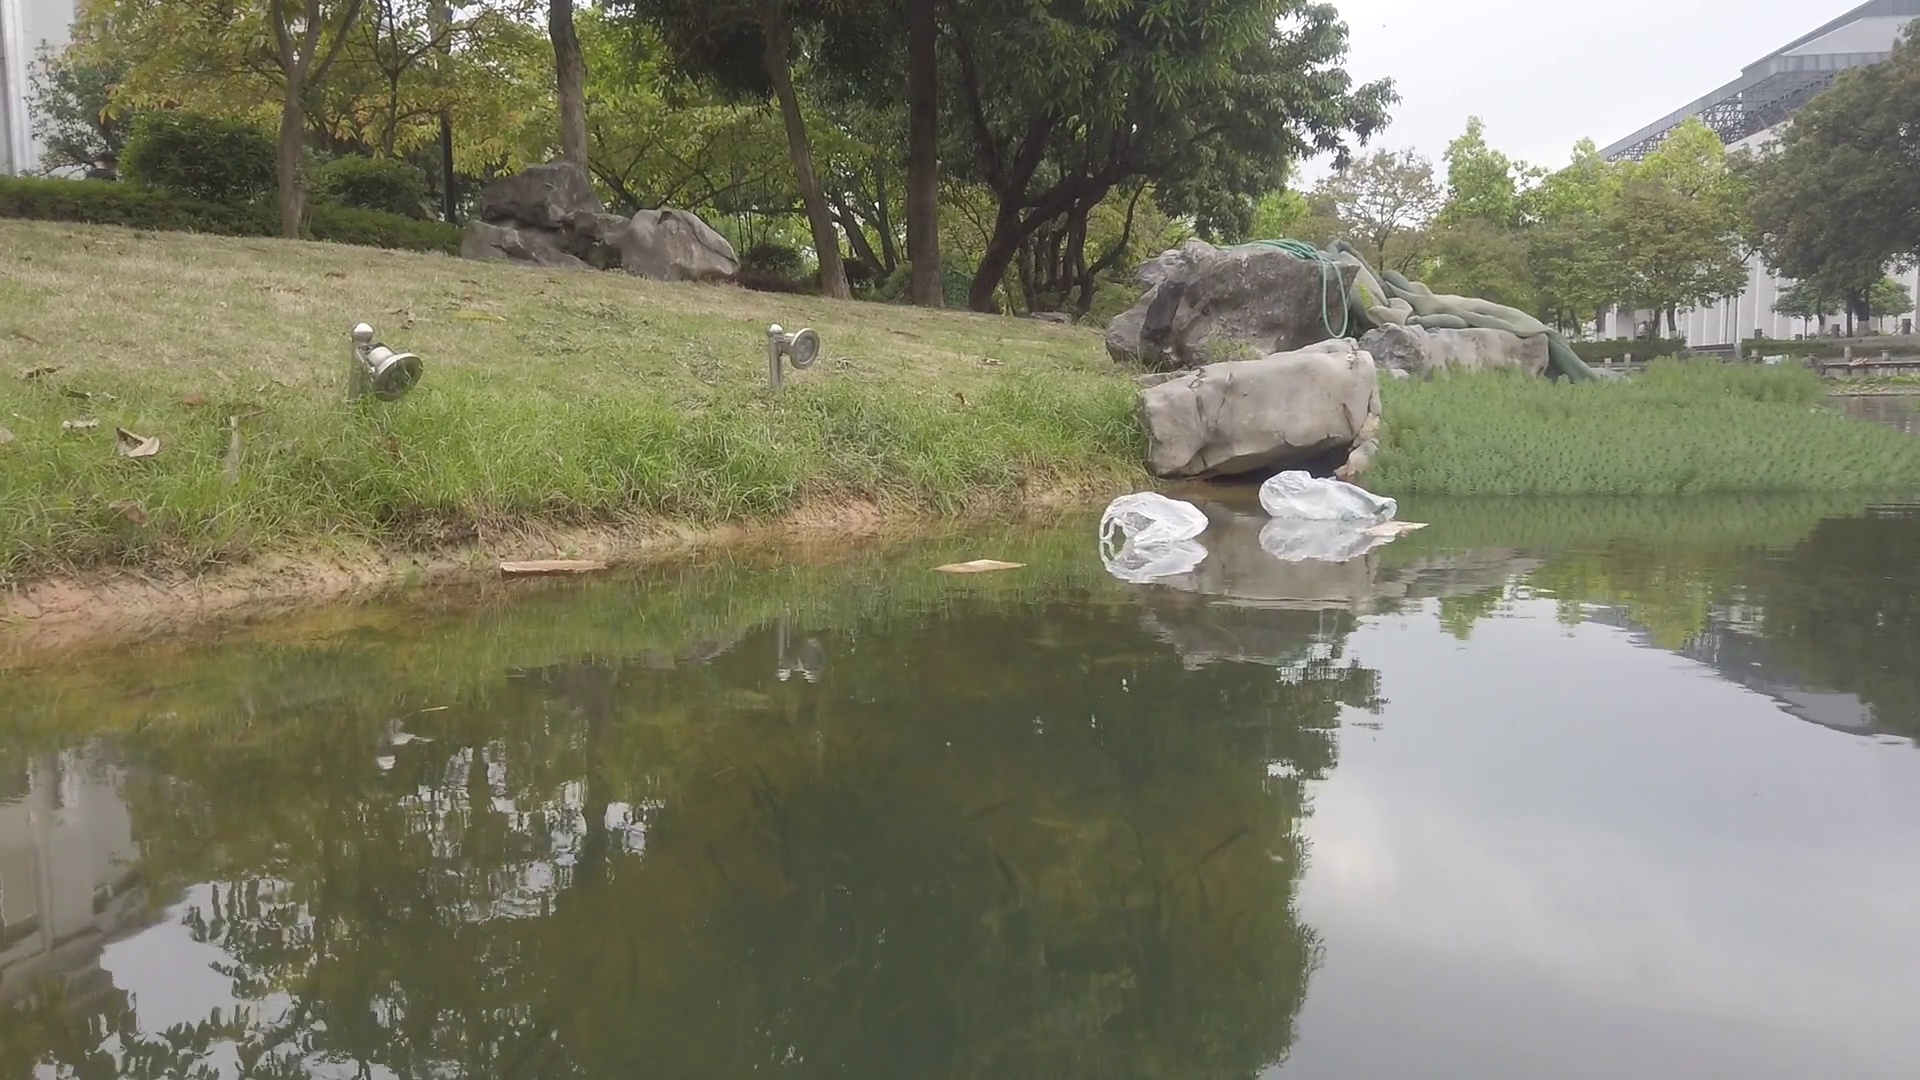paper: (927, 555, 1036, 576), (496, 558, 611, 578), (1360, 521, 1432, 541)
plastic: (1258, 465, 1399, 522), (1101, 495, 1209, 547)
